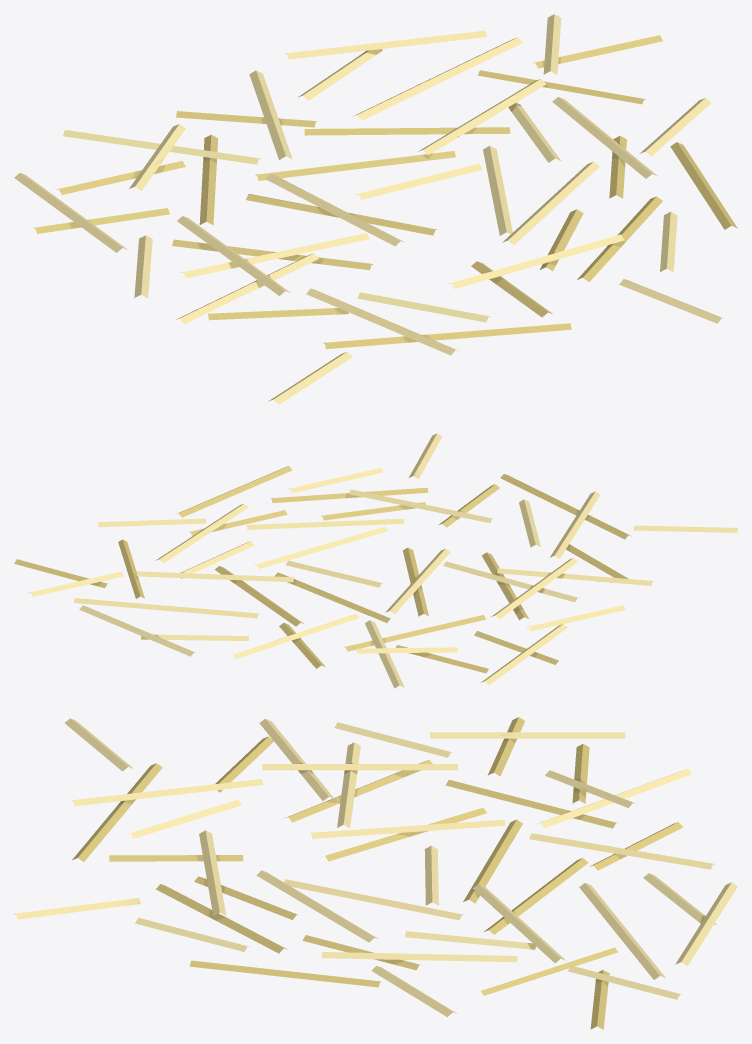
Rendered from minichef_props_quesuwu.fbx.
3 renders of one model, top to bottom at view 1: azimuth 30°, elevation 25°; view 2: azimuth 150°, elevation 25°; view 3: azimuth 270°, elevation 25°, orthographic. The views are drawn at different scales.
Parts seen in each view (by area): view 1: Quesuwu; view 2: Quesuwu; view 3: Quesuwu.
Part boxes in pixels (x1,y1,x2,y2): Quesuwu: (14,14,737,404); Quesuwu: (14,433,737,688); Quesuwu: (14,717,737,1029).
Size of the model in its own units: 750 by 14.54 by 741.
